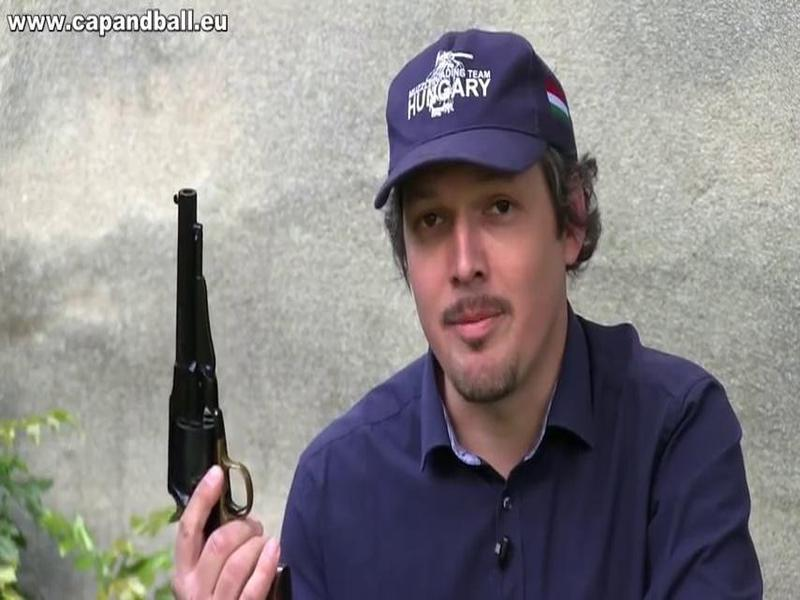Revolver: (136, 157, 351, 600)
